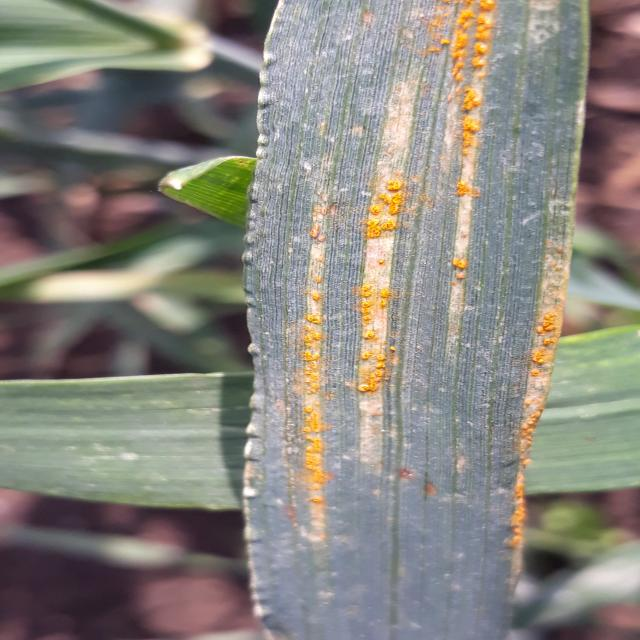yellow_rust: (201, 20, 620, 600)
